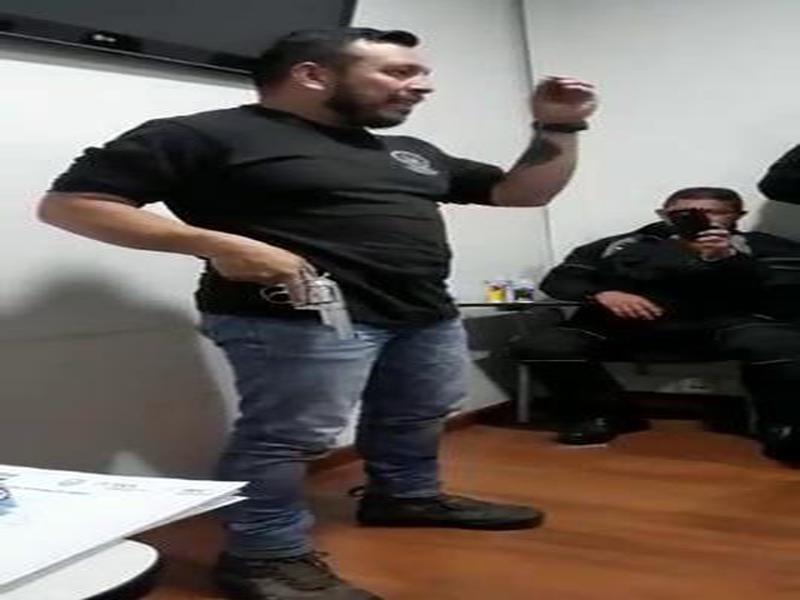Revolver: (238, 248, 364, 369)
